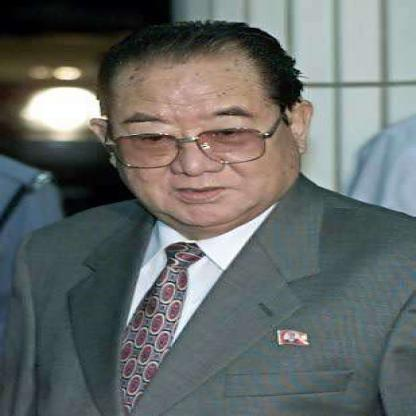face: (105, 43, 297, 229)
